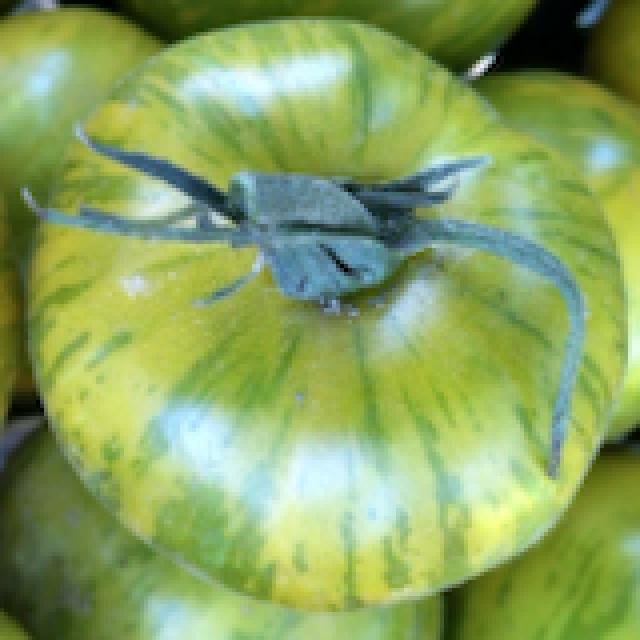yesil: (27, 18, 620, 606)
